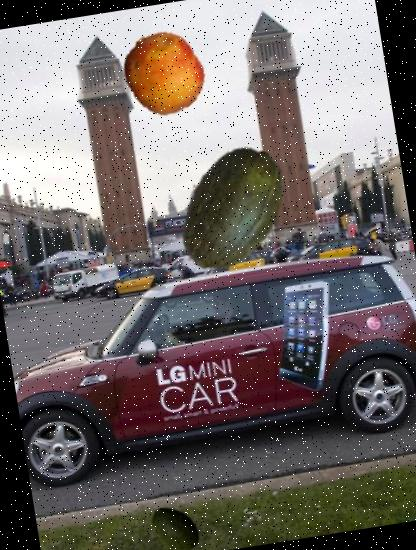Avocado: (144, 497, 208, 550)
Melon: (157, 134, 310, 286)
Peach: (116, 25, 212, 122)
